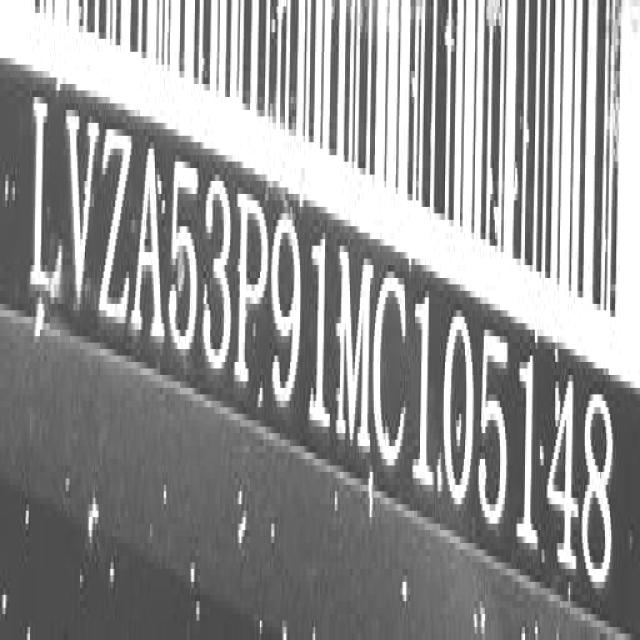0: (443, 292, 476, 520)
1: (307, 220, 334, 443), (518, 340, 544, 564), (414, 278, 437, 506)
3: (206, 160, 233, 385)
4: (546, 359, 580, 596)
5: (480, 309, 512, 538), (170, 142, 202, 365)
8: (583, 380, 620, 604)
9: (272, 198, 304, 430)
A: (137, 133, 167, 352)
C: (375, 256, 411, 483)
L: (28, 83, 65, 320)
M: (334, 232, 374, 462)
P: (236, 175, 268, 411)
V: (63, 91, 100, 314)
Z: (100, 116, 134, 339)
